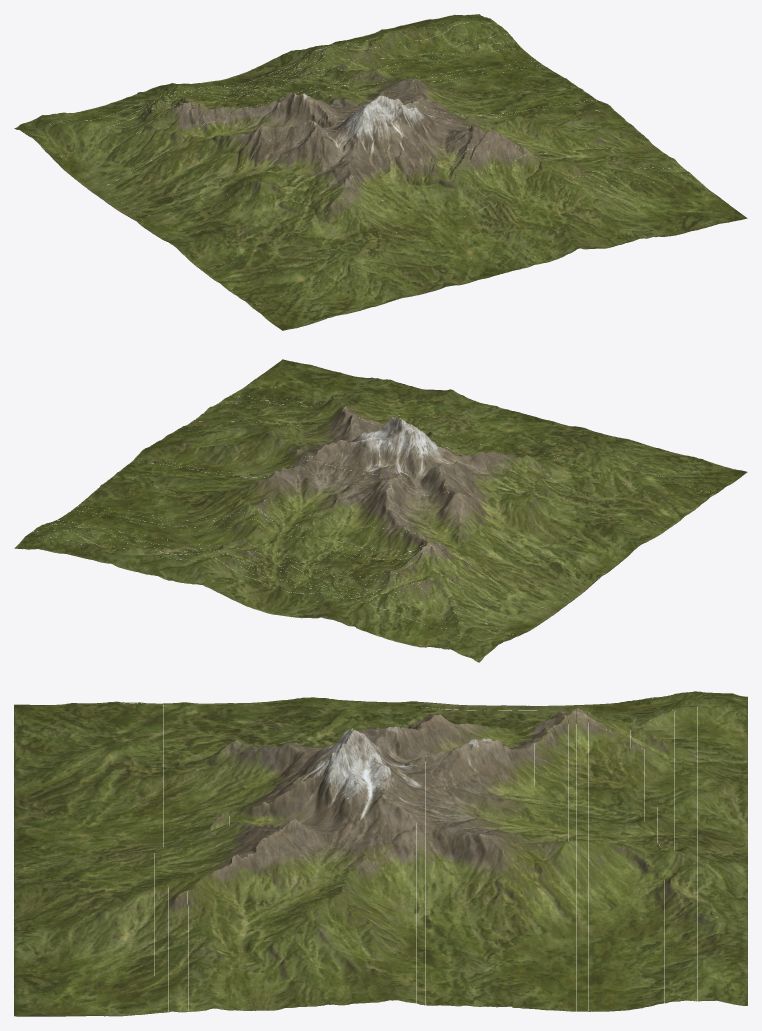
The model's file is mountain-desktop.glb.
3 renders of one model, top to bottom at view 1: azimuth 30°, elevation 25°; view 2: azimuth 150°, elevation 25°; view 3: azimuth 270°, elevation 25°, orthographic. The views are drawn at different scales.
Parts seen in each view (by area): view 1: Object_3, Object_2, Object_4, Object_5, Object_6; view 2: Object_5, Object_4, Object_2, Object_3, Object_6; view 3: Object_5, Object_2, Object_3, Object_4, Object_6.
Part boxes in pixels (<box>): Object_3: <box>196,132,747,330</box>; Object_2: <box>14,14,668,271</box>; Object_4: <box>39,34,714,305</box>; Object_5: <box>101,48,599,216</box>; Object_6: <box>51,16,520,157</box>; Object_5: <box>57,456,589,608</box>; Object_4: <box>45,383,714,641</box>; Object_2: <box>14,406,668,662</box>; Object_3: <box>188,359,747,533</box>; Object_6: <box>16,520,512,637</box>; Object_5: <box>414,707,646,1011</box>; Object_2: <box>226,691,747,1010</box>; Object_3: <box>14,701,272,1016</box>; Object_4: <box>101,693,681,1016</box>; Object_6: <box>633,699,741,1009</box>.
Size of the model in its own units: 1 by 0.1876 by 0.9999.
1 material, 1 textured.
